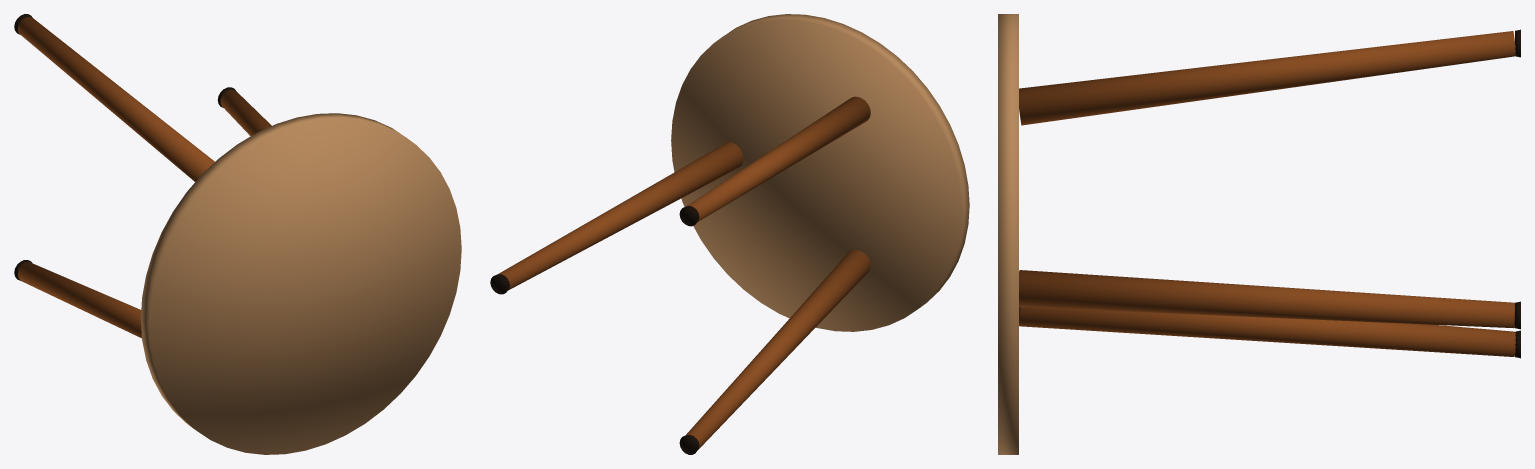
Rendered from product_07_scandinavian_round_stool.dae.
The picture shows the model from 3 angles, left to right: view 1: azimuth 30°, elevation 25°; view 2: azimuth 150°, elevation 25°; view 3: azimuth 270°, elevation 25°; orthographic projection. The views are drawn at different scales.
Visible parts, largest first — view 1: node0; view 2: node0; view 3: node0.
Part boxes in pixels (x1,y1,x2,y2): node0: (14,14,461,454); node0: (490,14,969,454); node0: (998,14,1520,454).
Bounding box in the file's own units: 0.38 × 0.38 × 0.45.
